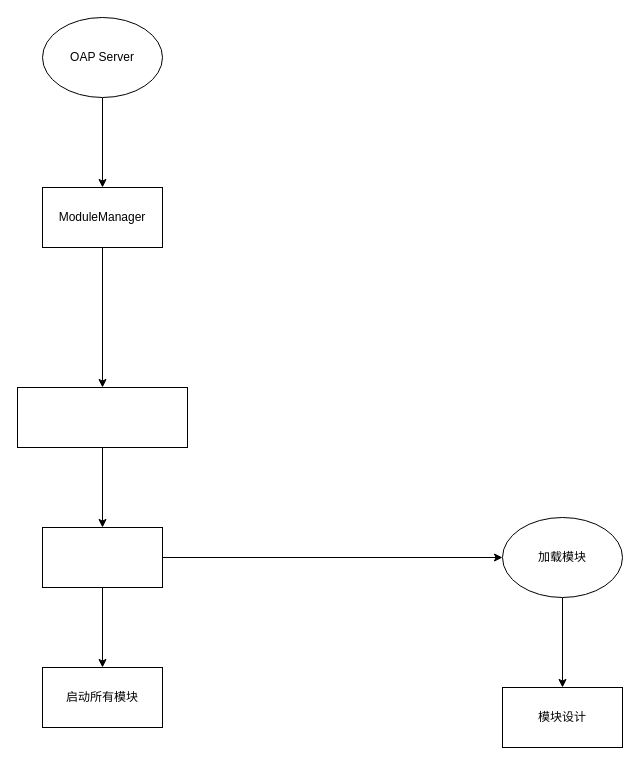
The diagram is 640 pixels wide and 765 high, and some of its shapes have lost their labels. Each missing label, with the centre of its shape:
ApplicationConfigLoader: point 102,417
加载所有模块: point 102,557
